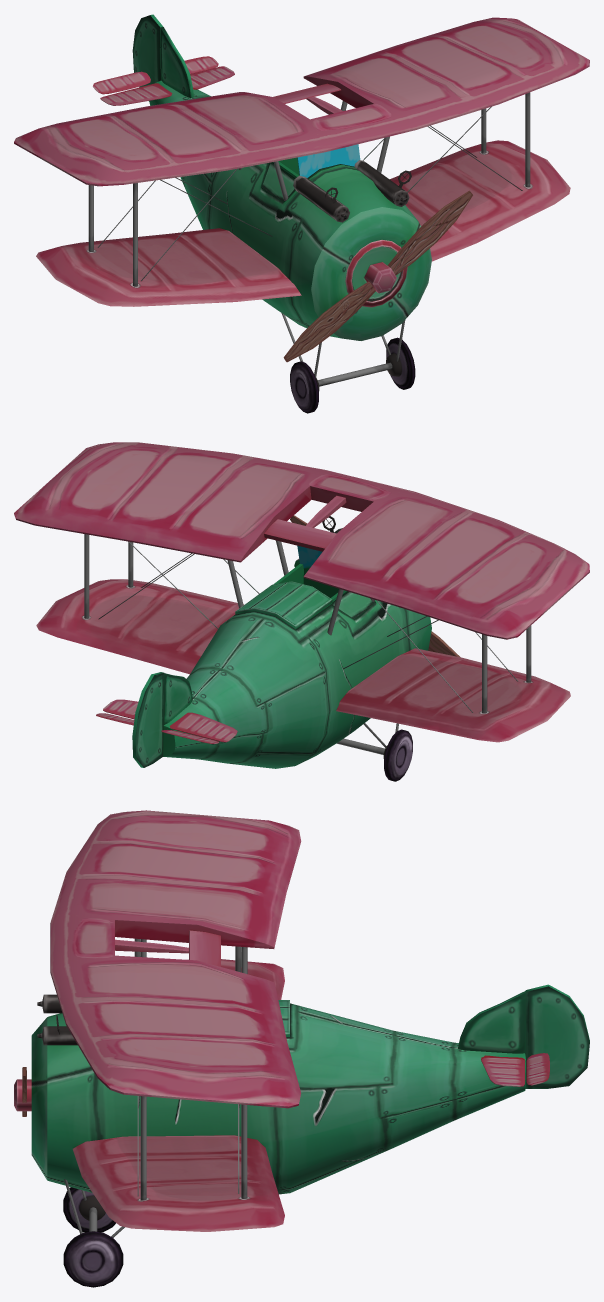
Rendered from stylized_ww01_plane.glb.
3 renders of one model, top to bottom at view 1: azimuth 30°, elevation 25°; view 2: azimuth 150°, elevation 25°; view 3: azimuth 270°, elevation 25°, orthographic. The views are drawn at different scales.
Parts seen in each view (by area): view 1: Object003_Material #3_0; view 2: Object003_Material #3_0; view 3: Object003_Material #3_0.
Boxes of the visible parts, <box> form: Object003_Material #3_0: <box>14,14,589,413</box>; Object003_Material #3_0: <box>14,442,589,781</box>; Object003_Material #3_0: <box>14,810,589,1287</box>.
Size of the model in its own units: 220 by 118 by 191.
1 material, 1 textured.
